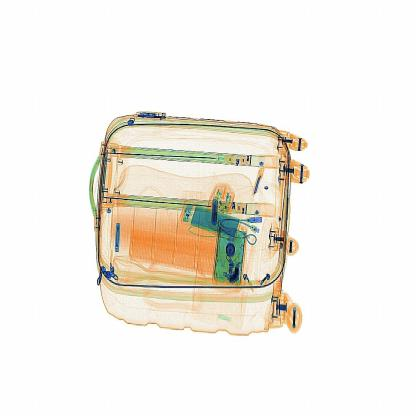pliers: (249, 158, 269, 204)
